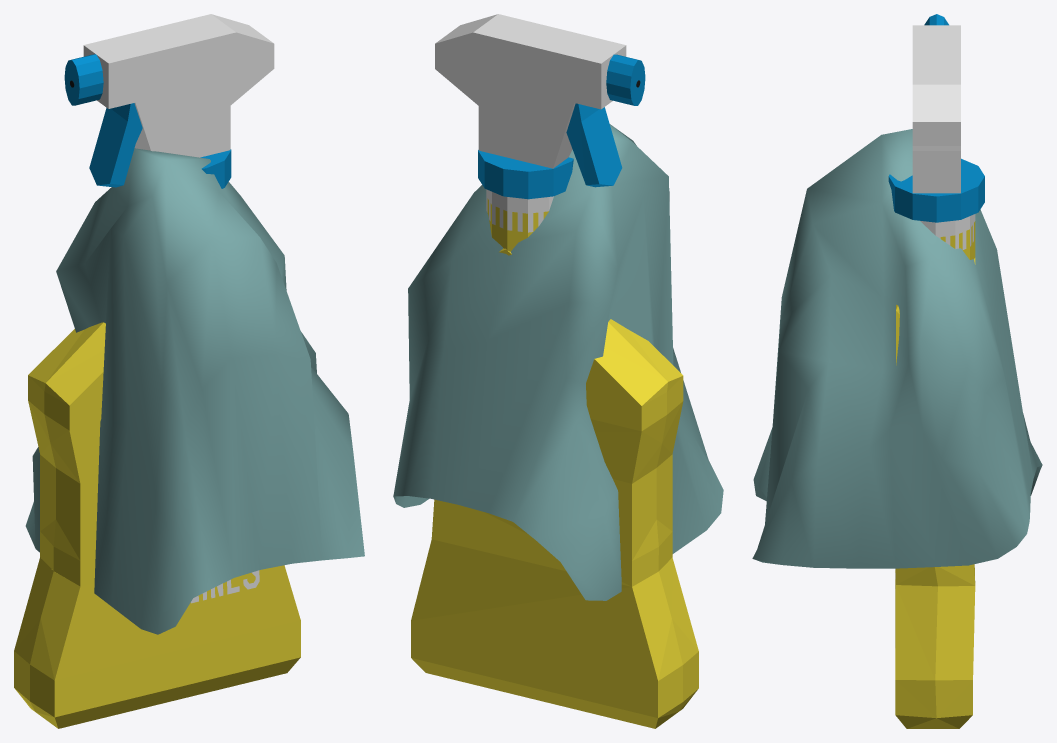
File: spray bottle_rag.fbx
The picture shows the model from 3 angles, left to right: view 1: azimuth 30°, elevation 25°; view 2: azimuth 150°, elevation 25°; view 3: azimuth 270°, elevation 25°; orthographic projection. The views are drawn at different scales.
Visible parts, largest first — view 1: rag, spray_bottle; view 2: spray_bottle, rag; view 3: rag, spray_bottle.
Boxes of the visible parts, x1=… form: rag: x1=25, y1=148, x2=364, y2=634; spray_bottle: x1=14, y1=14, x2=300, y2=728; spray_bottle: x1=411, y1=14, x2=698, y2=728; rag: x1=393, y1=124, x2=723, y2=600; rag: x1=752, y1=129, x2=1042, y2=568; spray_bottle: x1=888, y1=14, x2=984, y2=728.
Size of the model in its own units: 15.35 by 36.29 by 15.35.
